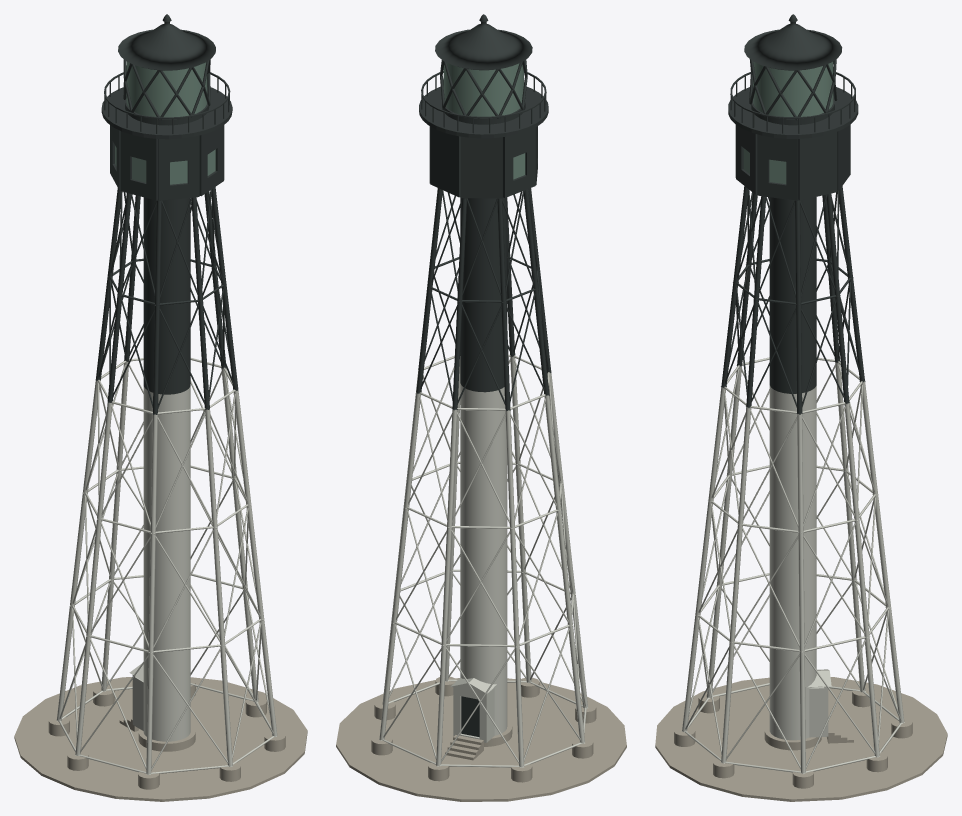
File: hillsboro-inlet-lighthouse-near.glb
3 renders of one model, left to right at view 1: azimuth 30°, elevation 25°; view 2: azimuth 150°, elevation 25°; view 3: azimuth 270°, elevation 25°, orthographic.
Visible parts, largest first — view 1: hillsboro-inlet-lighthouse-0-white, hillsboro-inlet-lighthouse-0-black, hillsboro-inlet-lighthouse-0-stone, hillsboro-inlet-lighthouse-0-glass; view 2: hillsboro-inlet-lighthouse-0-white, hillsboro-inlet-lighthouse-0-black, hillsboro-inlet-lighthouse-0-stone, hillsboro-inlet-lighthouse-0-glass; view 3: hillsboro-inlet-lighthouse-0-white, hillsboro-inlet-lighthouse-0-black, hillsboro-inlet-lighthouse-0-stone, hillsboro-inlet-lighthouse-0-glass.
Boxes of the visible parts, <box> form: hillsboro-inlet-lighthouse-0-white: <box>56,358,277,774</box>; hillsboro-inlet-lighthouse-0-black: <box>95,14,238,414</box>; hillsboro-inlet-lighthouse-0-stone: <box>14,677,307,801</box>; hillsboro-inlet-lighthouse-0-glass: <box>115,62,215,184</box>; hillsboro-inlet-lighthouse-0-white: <box>379,354,587,767</box>; hillsboro-inlet-lighthouse-0-black: <box>416,14,551,737</box>; hillsboro-inlet-lighthouse-0-stone: <box>336,676,626,801</box>; hillsboro-inlet-lighthouse-0-glass: <box>443,63,525,179</box>; hillsboro-inlet-lighthouse-0-white: <box>682,357,904,773</box>; hillsboro-inlet-lighthouse-0-black: <box>721,14,864,413</box>; hillsboro-inlet-lighthouse-0-stone: <box>655,677,947,801</box>; hillsboro-inlet-lighthouse-0-glass: <box>743,61,833,183</box>.
Bounding box in the file's own units: 16.35 × 44.8 × 16.33.
